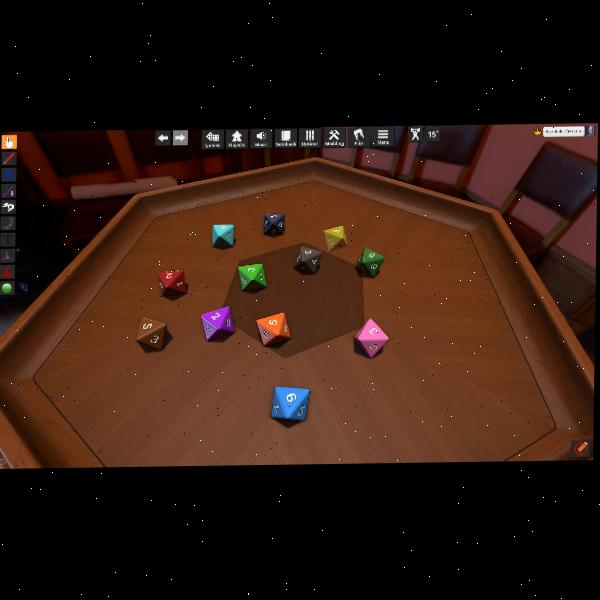d8: (272, 385, 310, 422), (354, 318, 388, 357), (256, 312, 290, 346), (202, 306, 234, 341), (137, 317, 167, 352), (354, 247, 384, 278), (158, 268, 186, 297), (237, 263, 265, 290), (294, 246, 320, 275), (324, 225, 347, 251), (212, 223, 235, 248), (263, 213, 286, 235)
